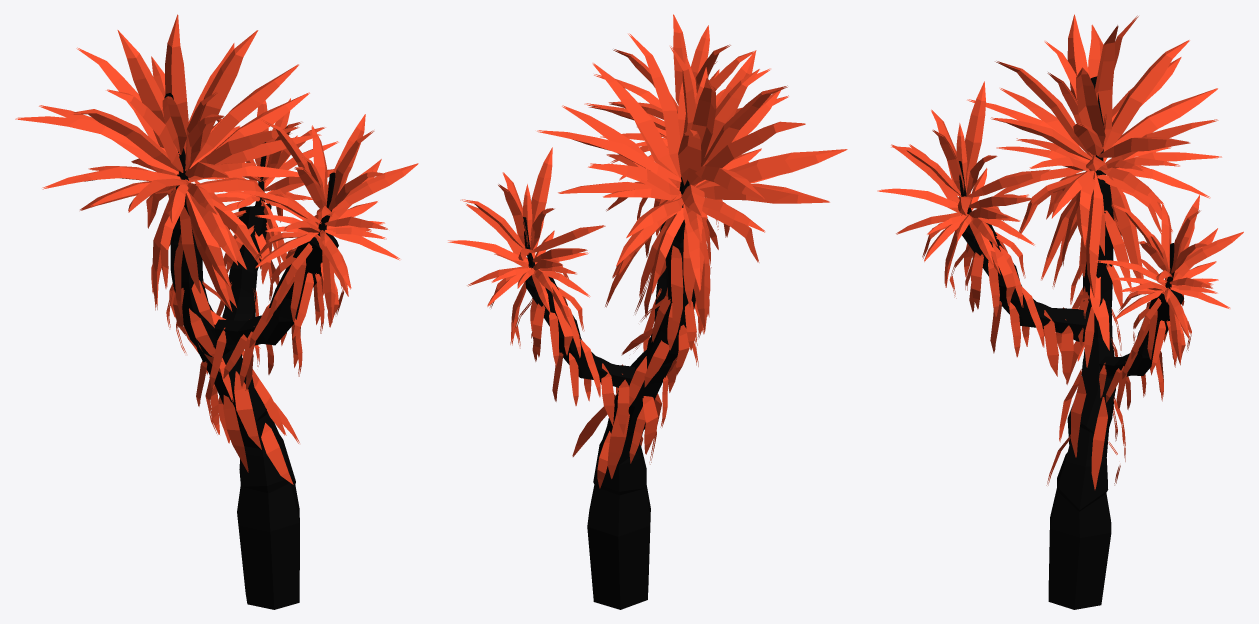
File: SM_Tree_Yucca_A.fbx
3 views of the same model, side by side, from view 1: azimuth 30°, elevation 25°; view 2: azimuth 150°, elevation 25°; view 3: azimuth 270°, elevation 25° (orthographic). The views are drawn at different scales.
Visible parts, largest first — view 1: SM_Tree_Yucca_A; view 2: SM_Tree_Yucca_A; view 3: SM_Tree_Yucca_A.
Part boxes in pixels (left/top/right/bottom): SM_Tree_Yucca_A: left=15, top=14, right=418, bottom=609; SM_Tree_Yucca_A: left=448, top=14, right=847, bottom=609; SM_Tree_Yucca_A: left=877, top=14, right=1243, bottom=609.
Bounding box in the file's own units: 2.96 × 5 × 3.07.
